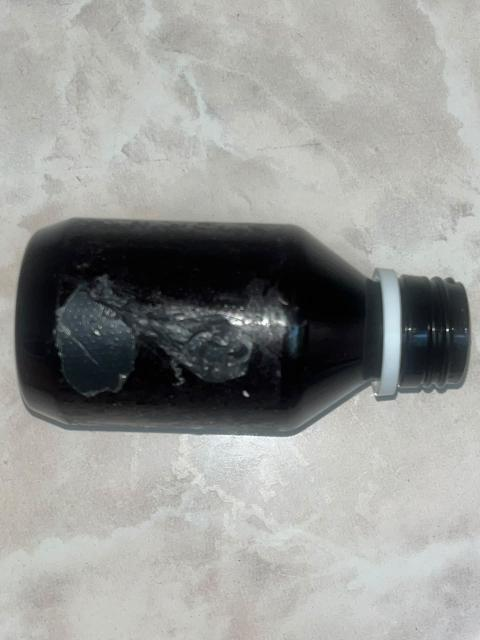HDPE: (9, 190, 480, 479)
